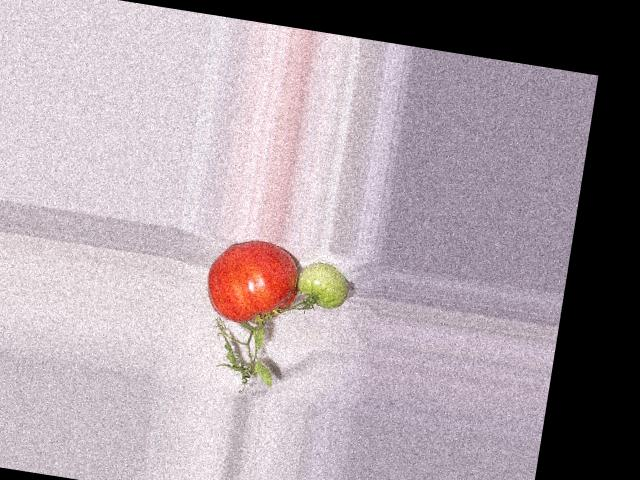tomato: (201, 234, 304, 330)
